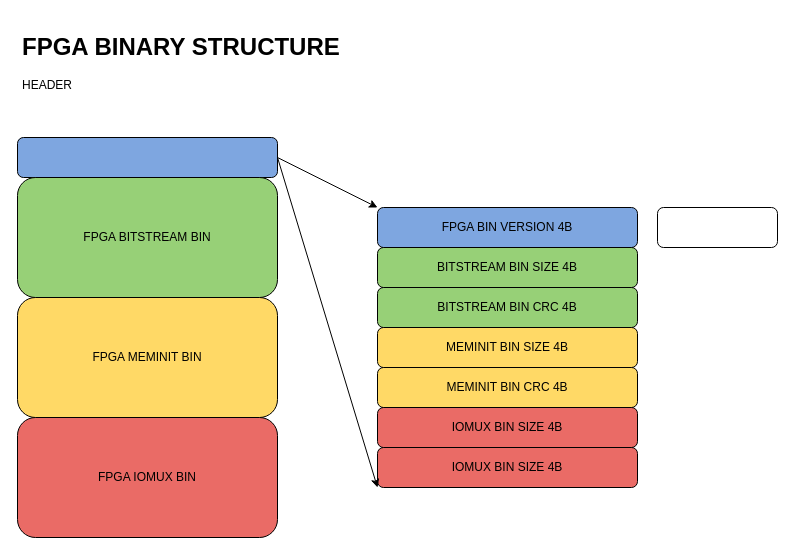
The diagram is 795 pixels wide and 555 high, and some of its shapes have lost their labels. The box of each missing label's shape, as (x1, y1, x2, y2) in pixels:
0x00000001 v0.1: (656, 206, 778, 248)
FPGA BIN HEADER: (16, 136, 278, 178)
